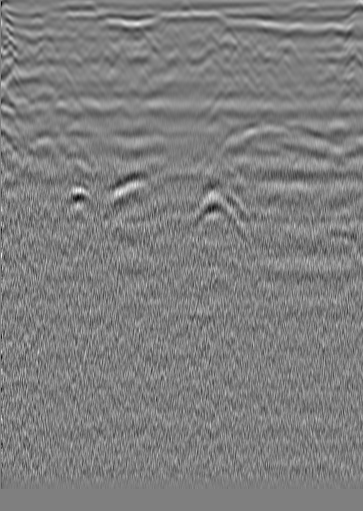가스: (55, 184, 101, 219)
상수: (319, 19, 339, 39)
우수: (198, 29, 218, 49)
